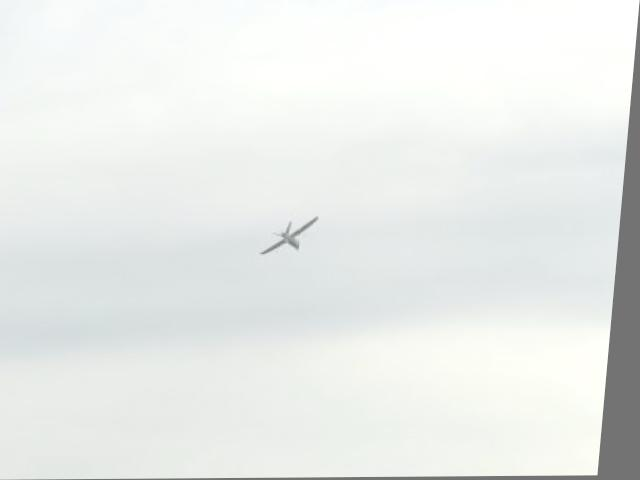uav: (256, 208, 327, 267)
